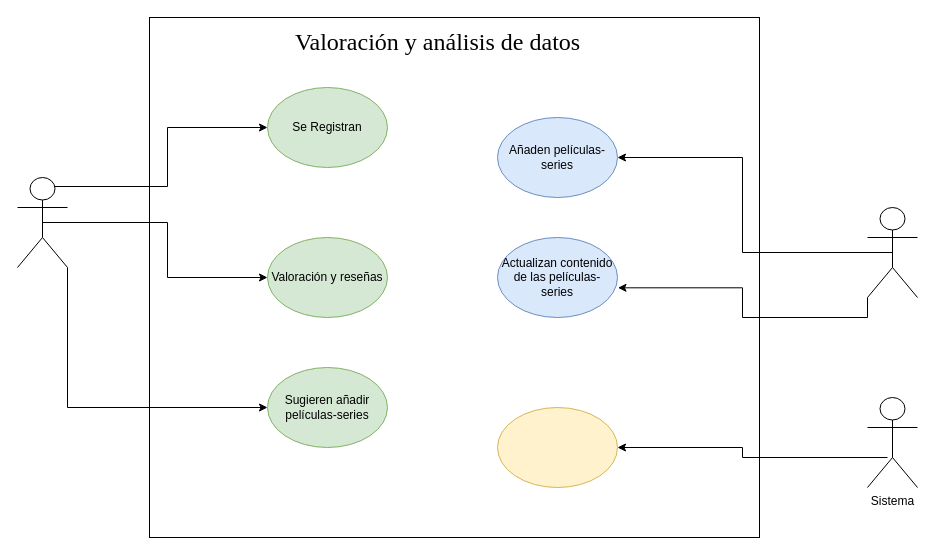
This 937x555 diagram has some shape labels left out. The shapes that lost their labels are listed below. From the top down, each one's centre as x and y in pixels, then its label:
the point at 42,222: Usuario
the point at 892,252: Equipo de Gestión
the point at 557,447: Análisis demográfico Análisis de datos
